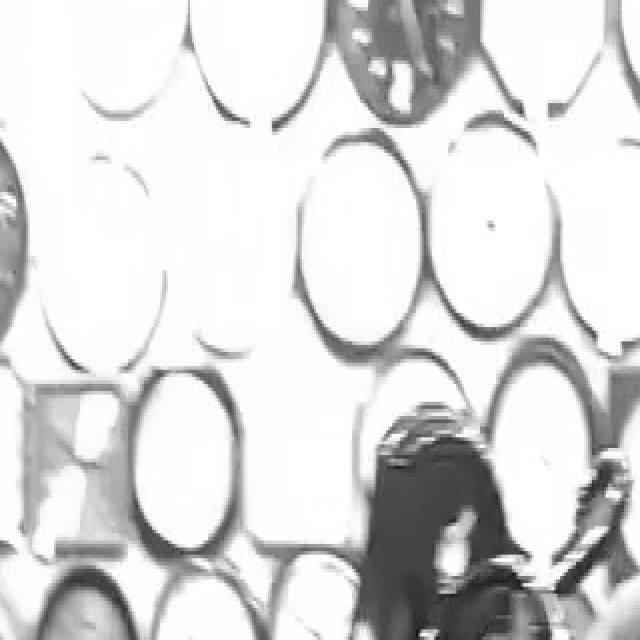wallclock: (424, 105, 558, 348), (169, 133, 299, 383), (229, 308, 361, 552), (30, 145, 162, 384), (295, 125, 425, 364), (482, 328, 606, 556), (502, 444, 640, 640), (350, 332, 475, 535), (126, 358, 242, 562), (546, 117, 640, 359), (330, 0, 482, 132), (22, 374, 133, 554), (182, 0, 322, 139), (478, 0, 614, 128), (54, 0, 194, 124), (28, 547, 142, 640), (262, 537, 364, 640), (146, 551, 264, 640), (606, 369, 640, 586), (0, 118, 30, 348), (0, 356, 26, 554), (0, 0, 28, 132), (0, 544, 32, 640)
